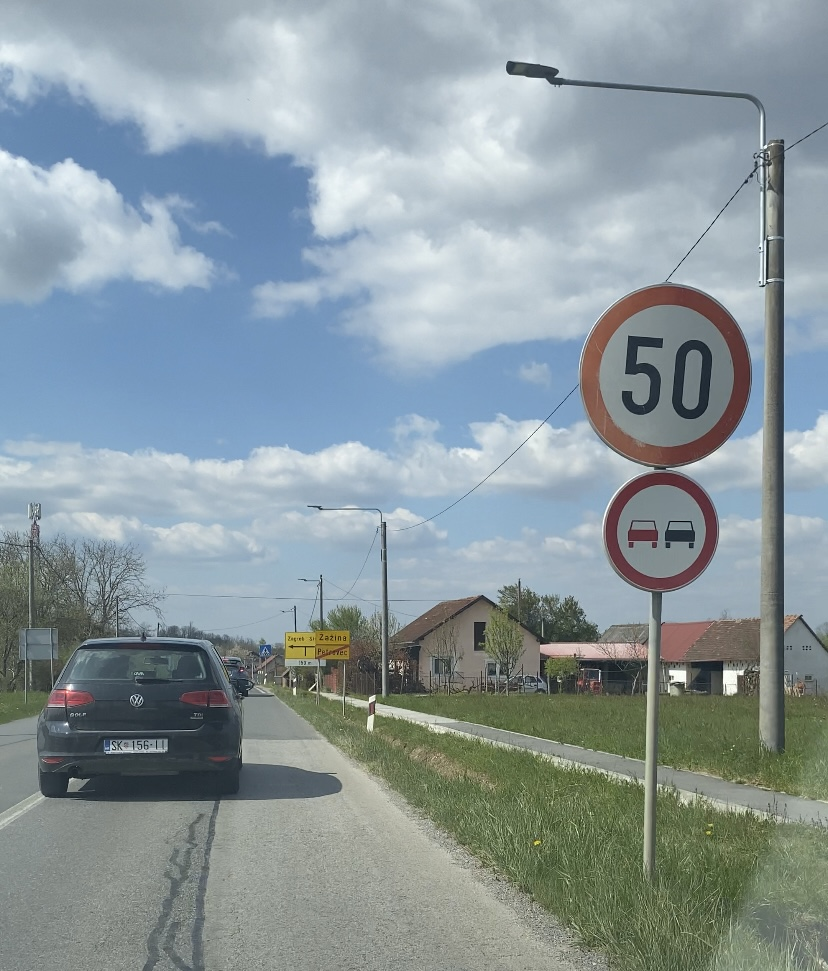Ograničenje brzine 50: (581, 283, 753, 468)
Pješački prijelaz: (259, 645, 271, 657)
Zabrana pretjecanja: (603, 471, 720, 590)
